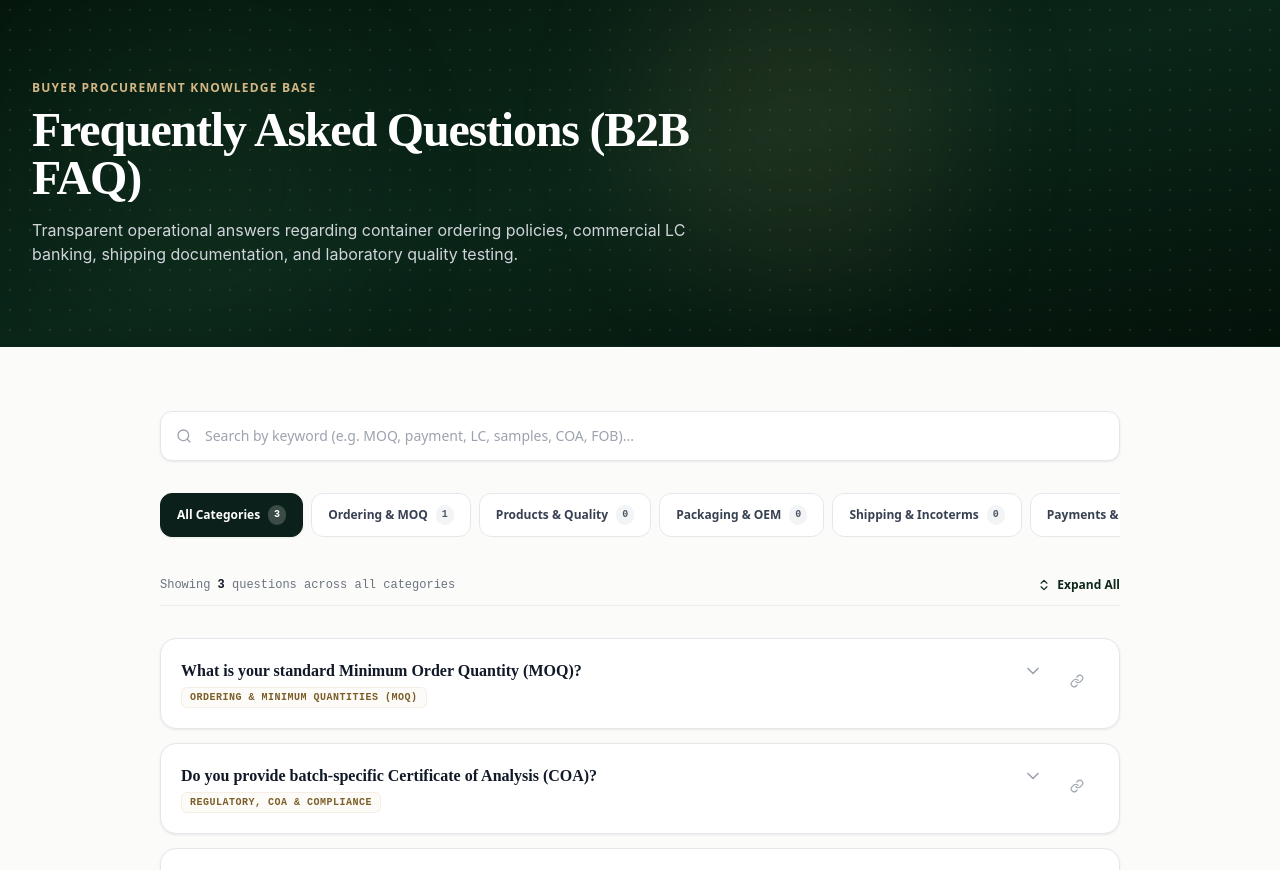
Test case: UI Component: FaqPage Suite › toggles accordion item and updates aria-expanded on click
Click to open
Click the button "What is your standard Minimum Order Quantity (MOQ)?" at point(381, 670), box [181, 659, 1043, 708]
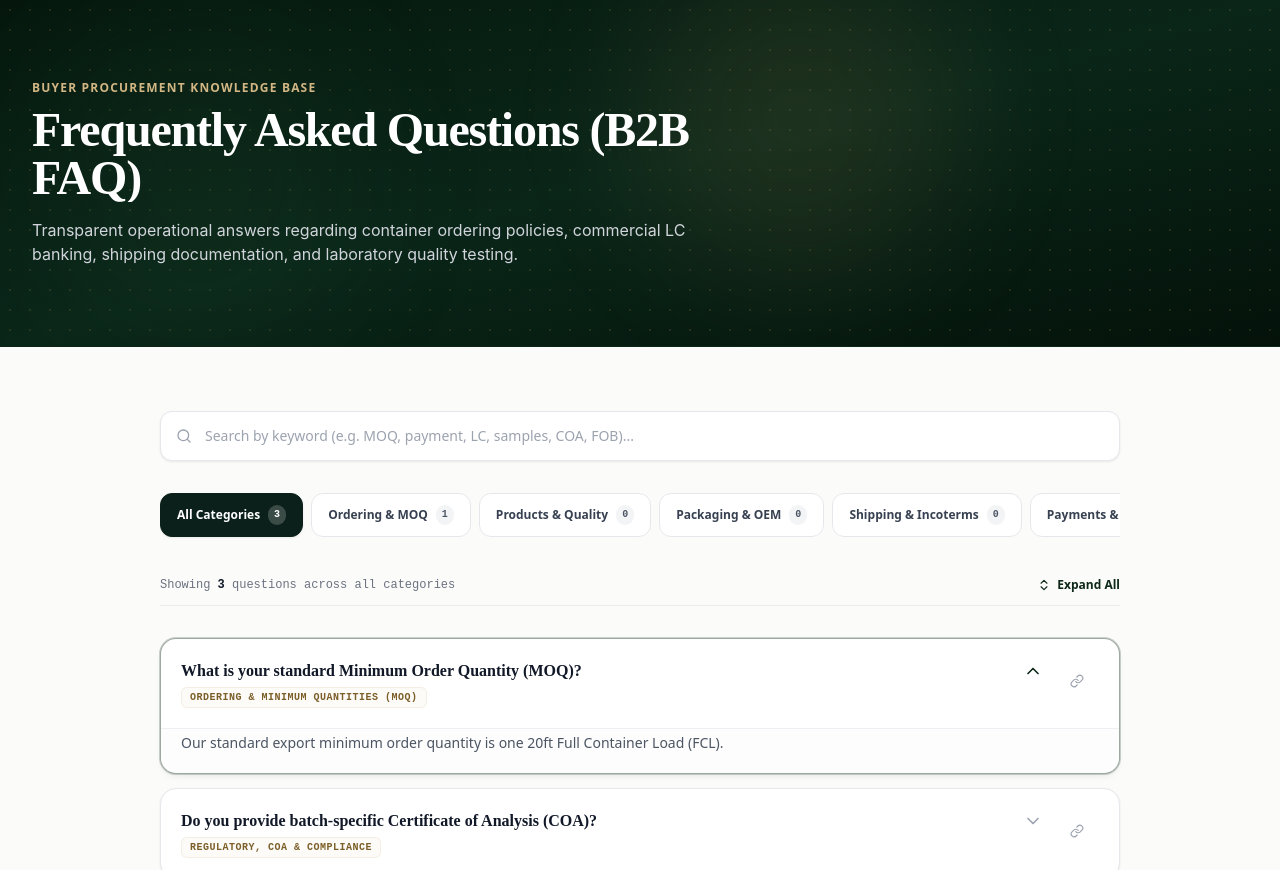
Check: the button "What is your standard Minimum Order Quantity (MOQ)?" is expanded
Check: the text "Our standard export minimum order quantity is one 20ft" is shown, box [181, 733, 724, 752]
Click again to close
Click the button "What is your standard Minimum Order Quantity (MOQ)?" at point(381, 670), box [181, 659, 1043, 708]
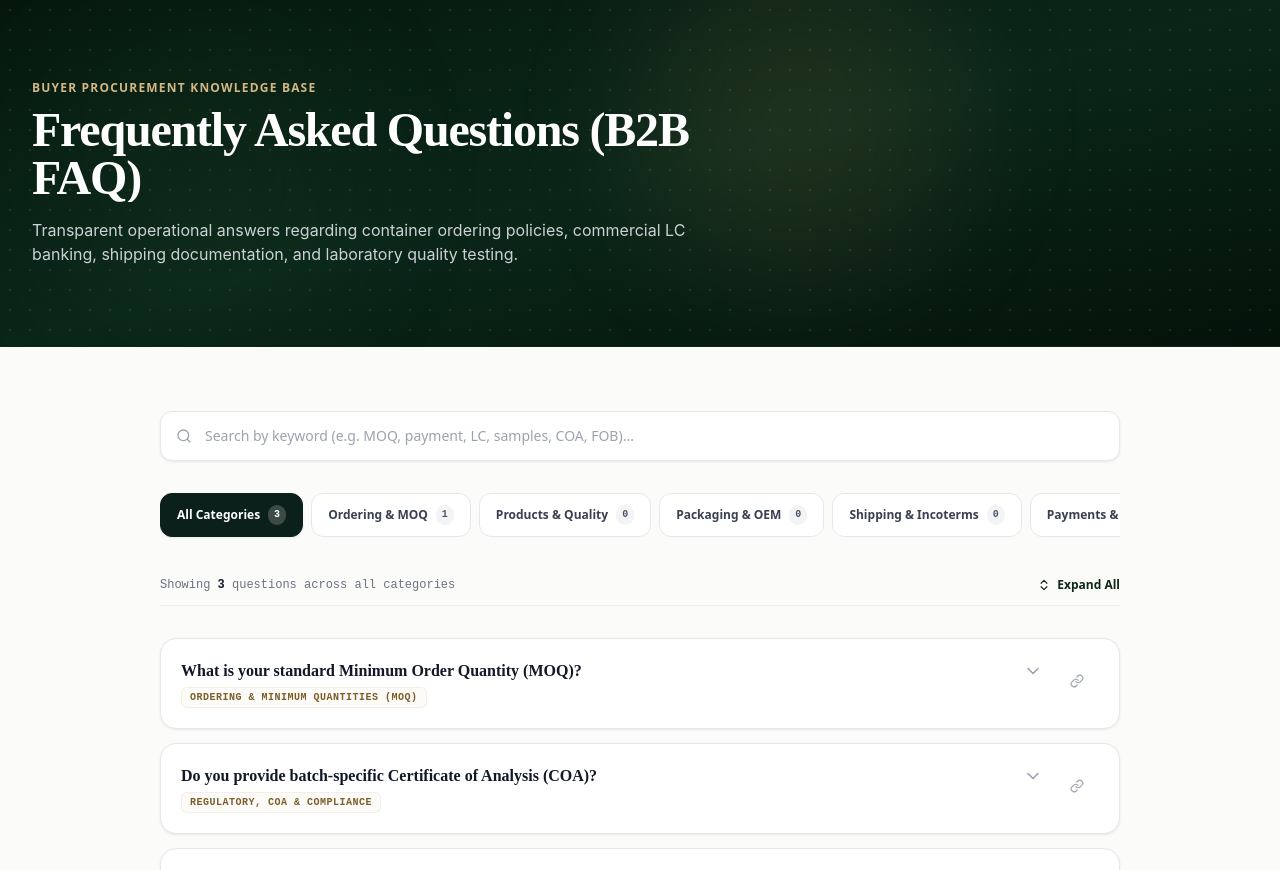
Check: the button "What is your standard Minimum Order Quantity (MOQ)?" is collapsed, box [181, 659, 1043, 708]
